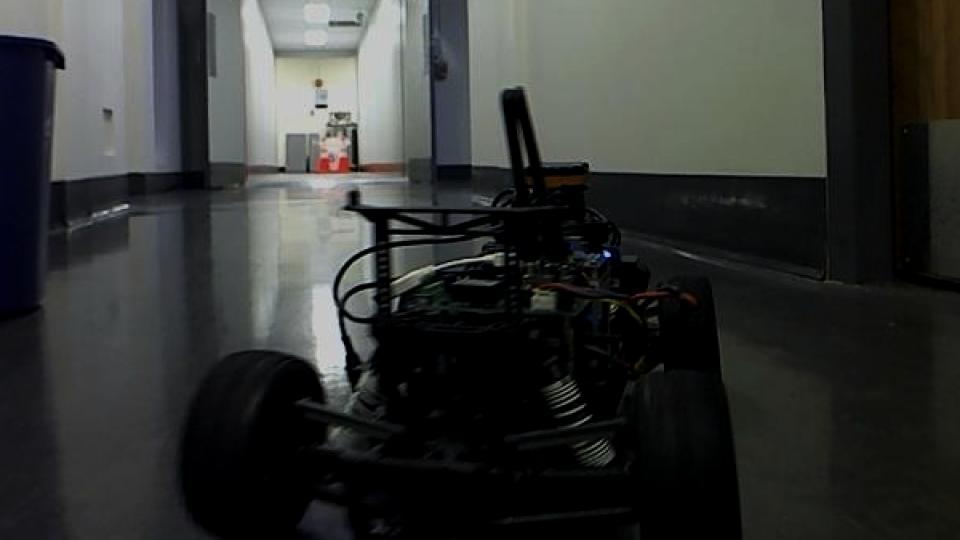car: (176, 83, 747, 540)
